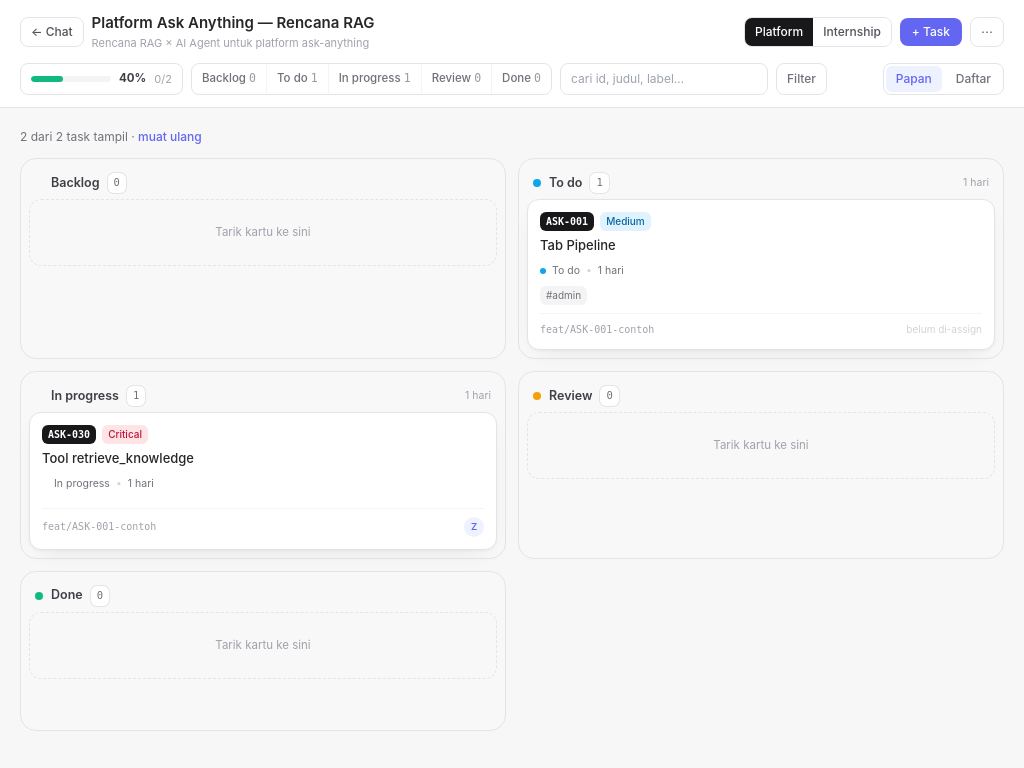
Test: TasksConsole — halaman /tasks › pencarian & filter mempersempit kartu yang tampil
Expected: the heading "Tab Pipeline" is shown, x1=540 y1=237 x2=616 y2=253
Type "retrieve" into the field named "Cari task".
click(664, 79); type("retrieve")  # box x1=560 y1=63 x2=768 y2=95
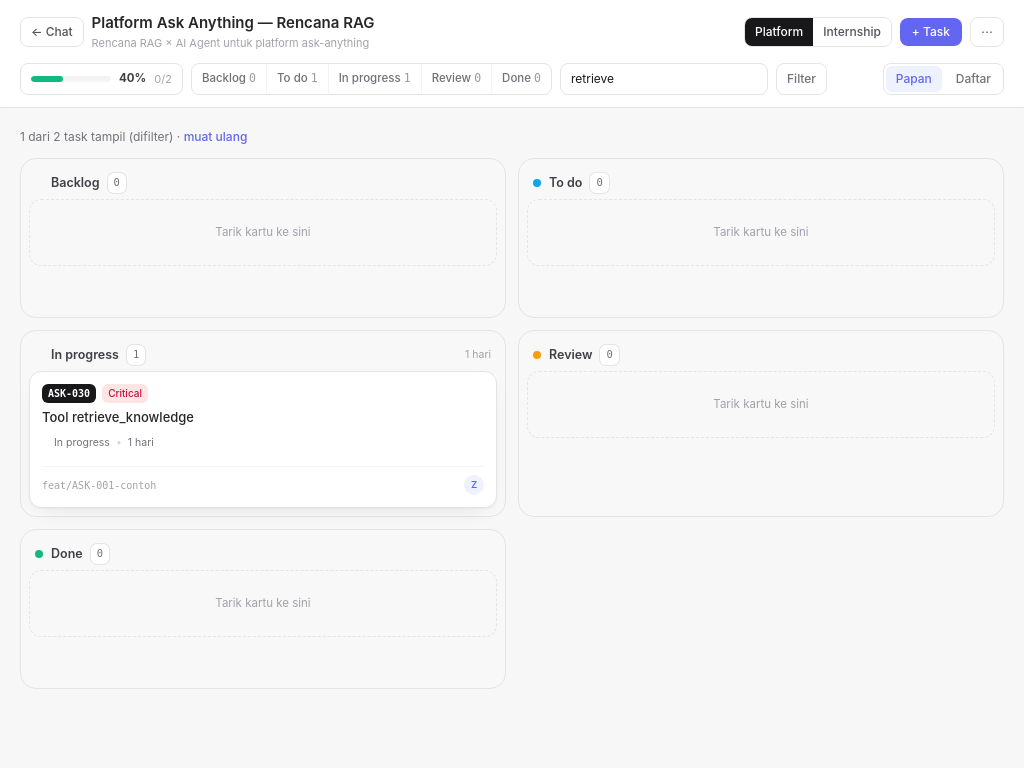
Expected: the heading "Tool retrieve_knowledge" is shown, x1=42 y1=409 x2=194 y2=425
Result: the button "Tab Pipeline" is gone
Result: the element with test id "task-count" shows "1 dari 2 task tampil (difilter)" at x1=20 y1=128 x2=247 y2=146
